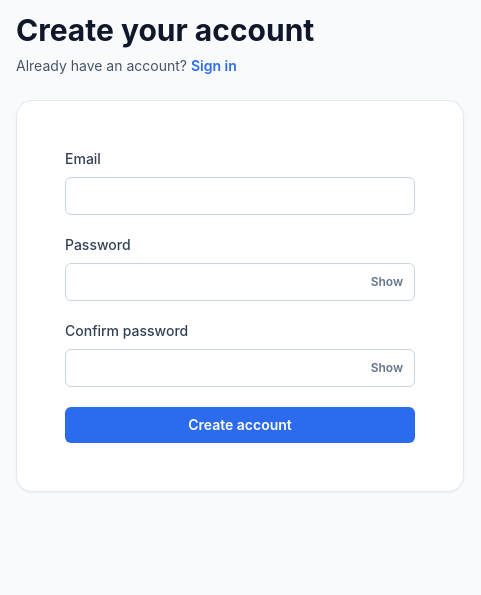
Test: RegisterPage › handles successful registration
The width and height of the screenshot is (481, 595).
Type "test@example.com" into the field labelled "Email".
click(240, 196); type("test@example.com")  # box [65,177,415,215]
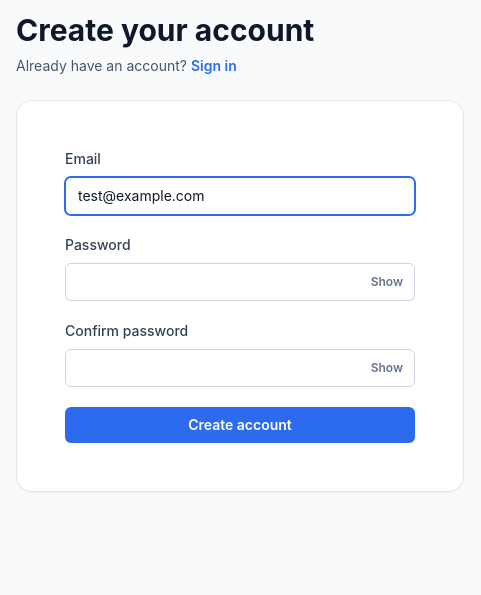
Type "password123" into the password field labelled "Password".
click(240, 282); type("password123")  # box [65,263,415,301]
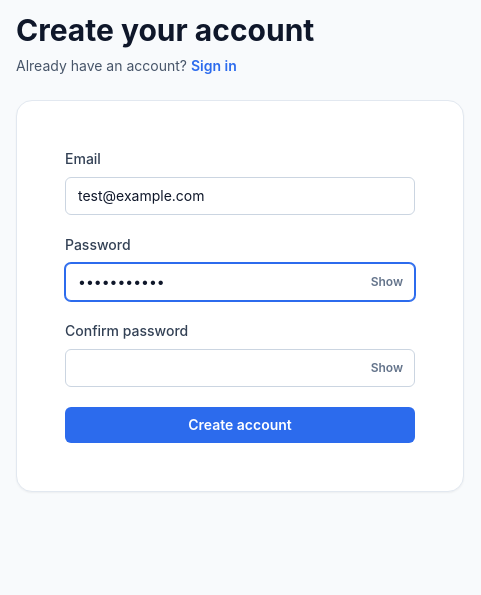
Type "password123" into the password field labelled "Confirm password".
click(240, 368); type("password123")  # box [65,349,415,387]
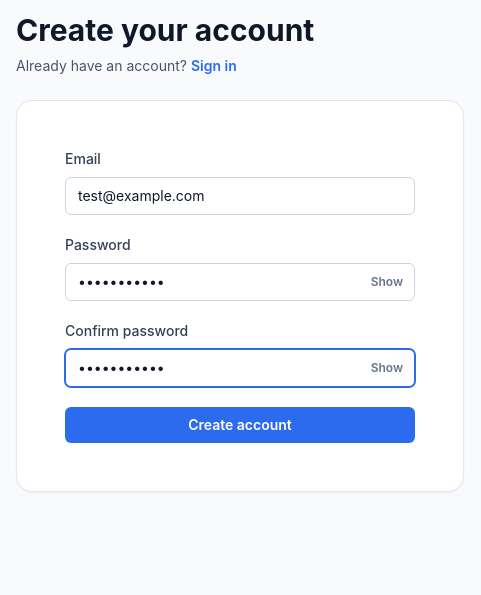
Click the button "Create account".
click(240, 425)  # box [65,407,415,443]
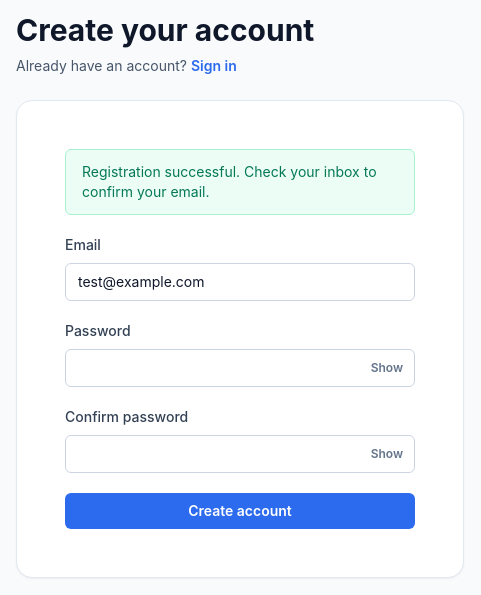
Result: the text "Registration successful. Check your inbox to confirm your email." is shown at [65,149,415,215]
